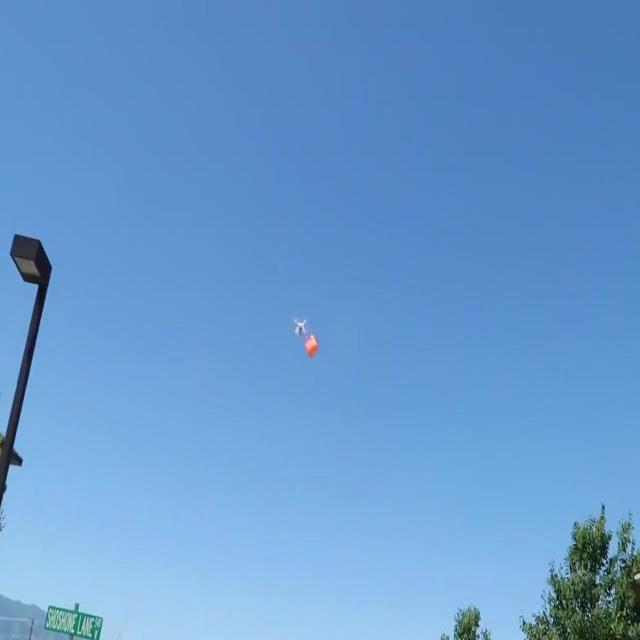UAV: (294, 318, 307, 338)
